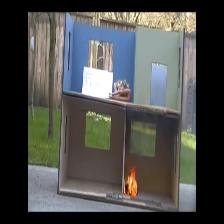fire: (123, 162, 138, 199)
